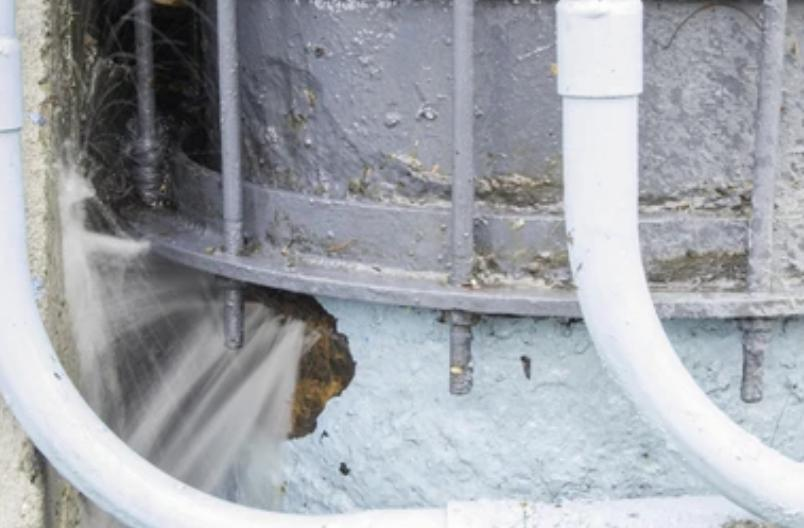pipe burst: (52, 145, 322, 513)
